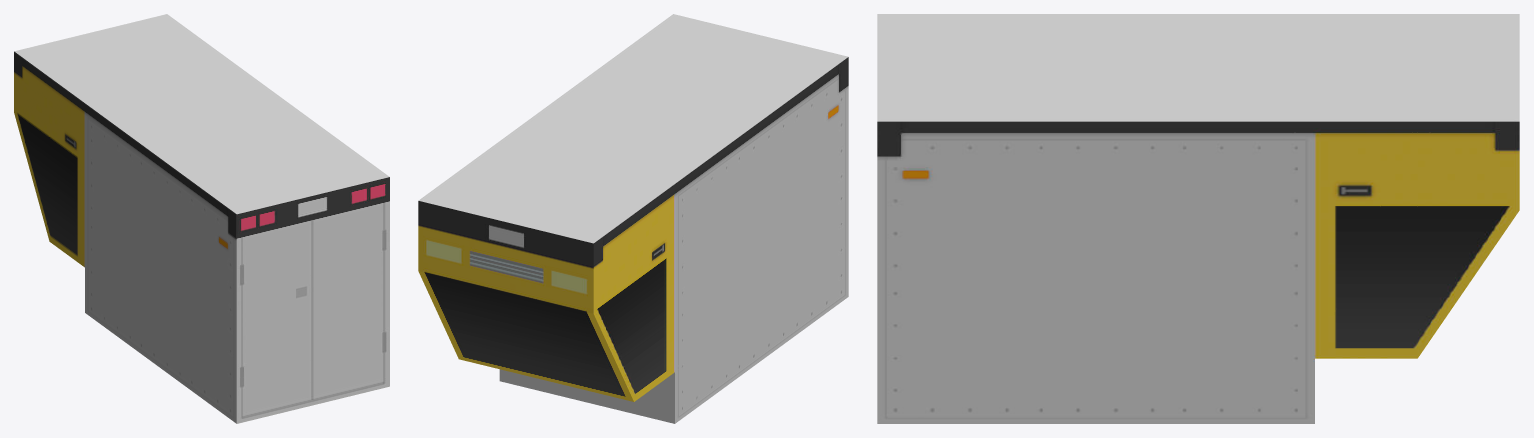
File: carModel1.glb
The picture shows the model from 3 angles, left to right: view 1: azimuth 30°, elevation 25°; view 2: azimuth 150°, elevation 25°; view 3: azimuth 270°, elevation 25°; orthographic projection. The views are drawn at different scales.
Visible parts, largest first — view 1: Car_08; view 2: Car_08; view 3: Car_08.
Part boxes in pixels (bbox=[...]): Car_08: bbox=[14, 14, 389, 423]; Car_08: bbox=[418, 14, 848, 423]; Car_08: bbox=[877, 14, 1519, 423].
Bounding box in the file's own units: 2.71 × 3.54 × 6.83.
1 material, 1 textured.
